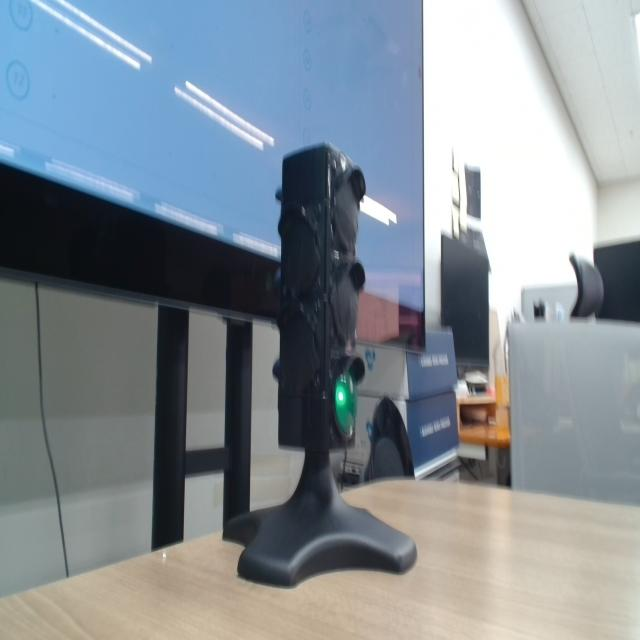green_light: (335, 373, 357, 437)
